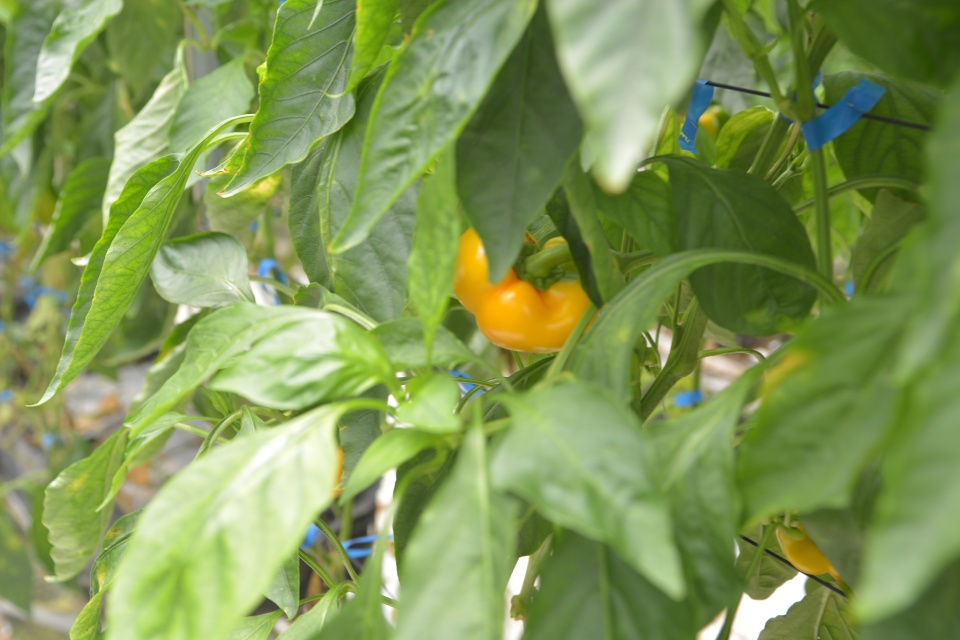fruit: (446, 224, 601, 356), (774, 519, 844, 582)
pedicle: (512, 240, 565, 290)
